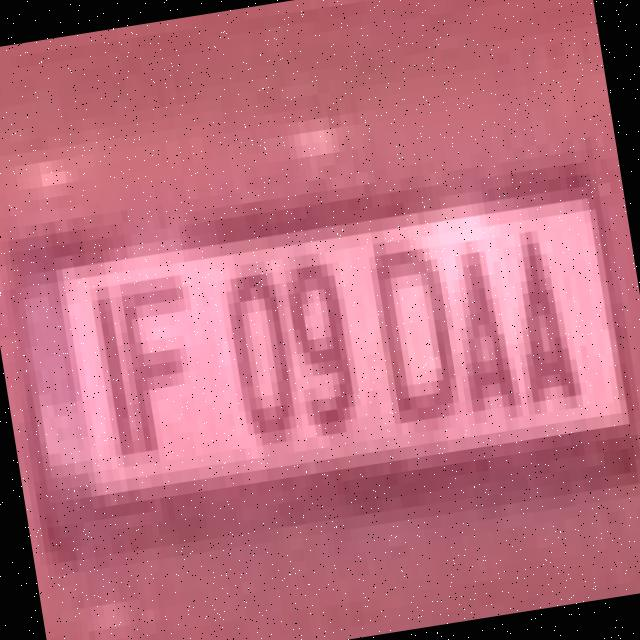Autre: (12, 168, 640, 566)
